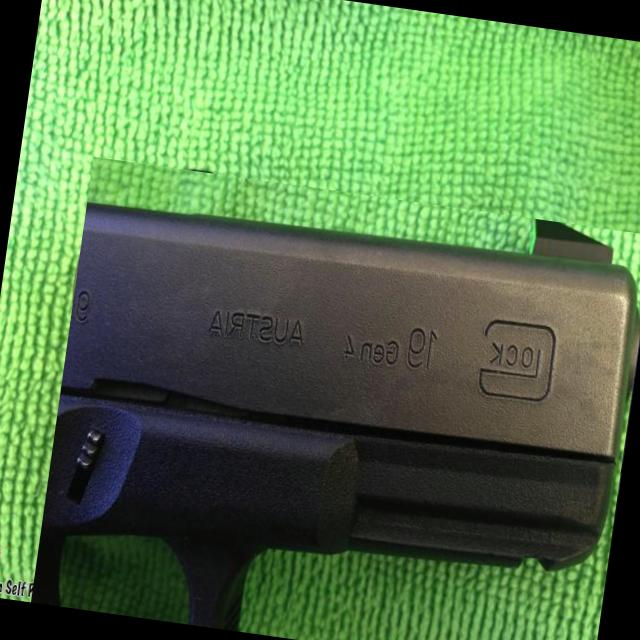Gun: (32, 204, 640, 631)
